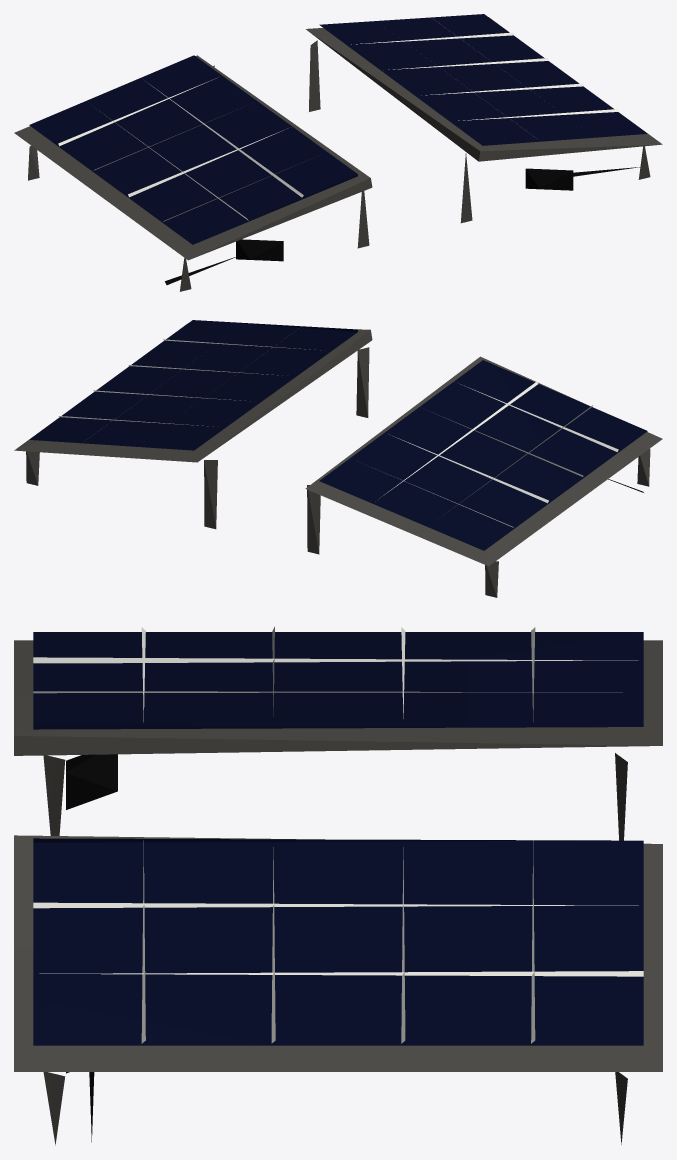
The model's file is tb_upg_solar_array.three-web-toon.lod25.glb.
3 renders of one model, top to bottom at view 1: azimuth 30°, elevation 25°; view 2: azimuth 150°, elevation 25°; view 3: azimuth 270°, elevation 25°, orthographic. The views are drawn at different scales.
Parts seen in each view (by area): view 1: tb_upg_solar_array_mesh_lod; view 2: tb_upg_solar_array_mesh_lod; view 3: tb_upg_solar_array_mesh_lod.
Boxes of the visible parts, x1,y1,x2,y2 form: tb_upg_solar_array_mesh_lod: (14,14,662,291); tb_upg_solar_array_mesh_lod: (14,320,662,597); tb_upg_solar_array_mesh_lod: (14,626,662,1145).
Size of the model in its own units: 1.98 by 0.3205 by 1.25.
